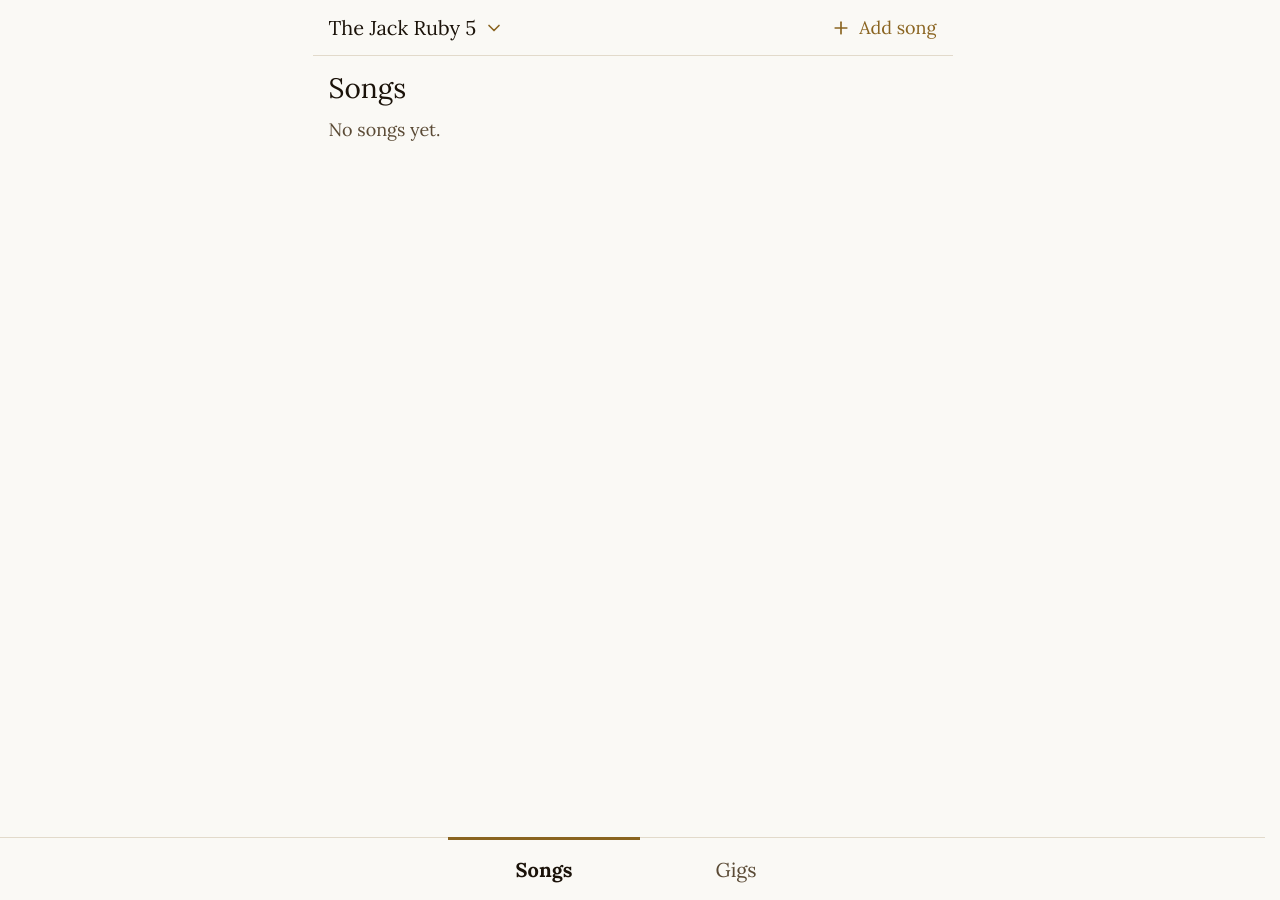
AppBootstrap › signed in: / → Gigs → a gig
Click the link "Gigs".
click(736, 870)  # box [715, 857, 757, 882]
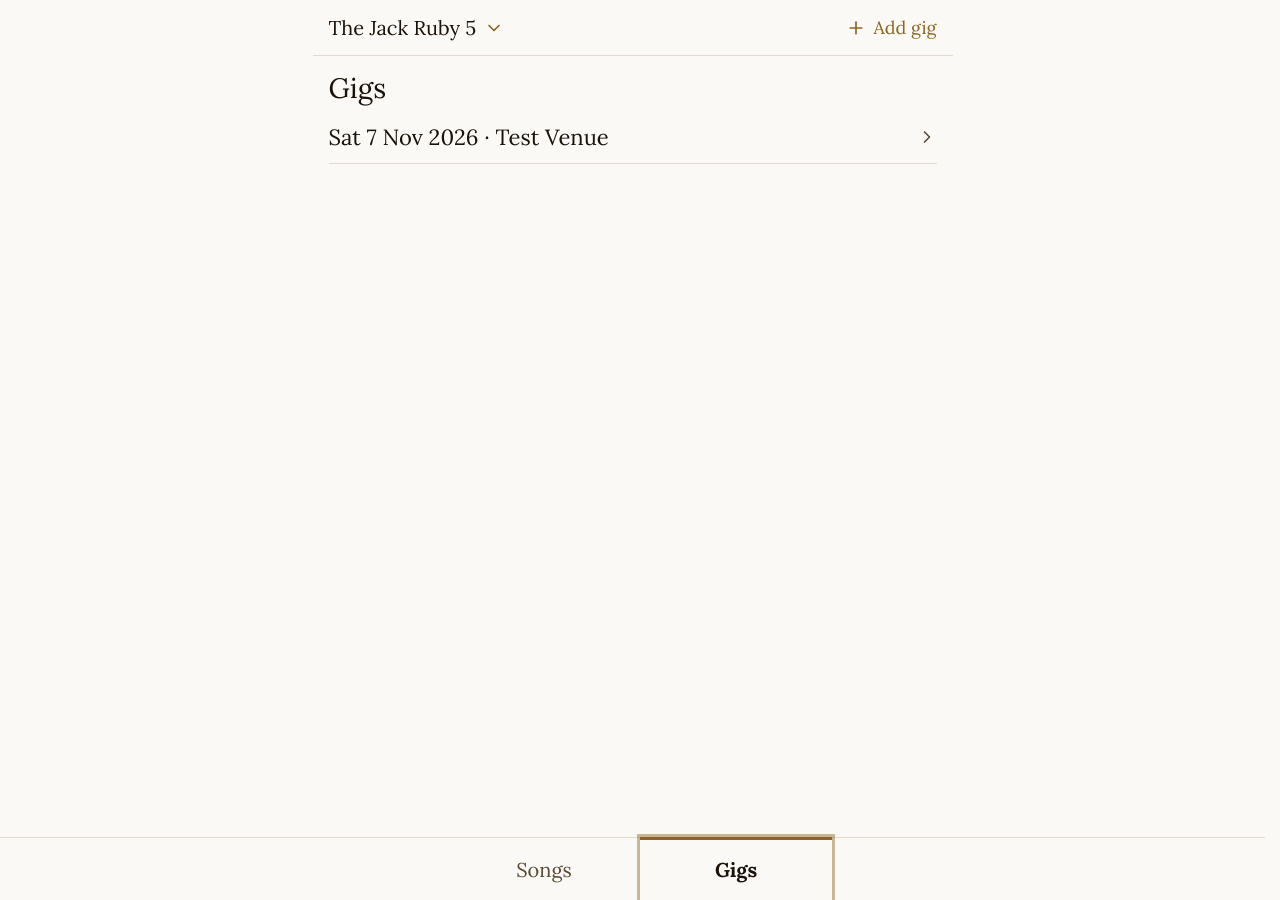
Click the link "Sat 7 Nov 2026 · Test Venue".
click(469, 137)  # box [328, 123, 936, 151]
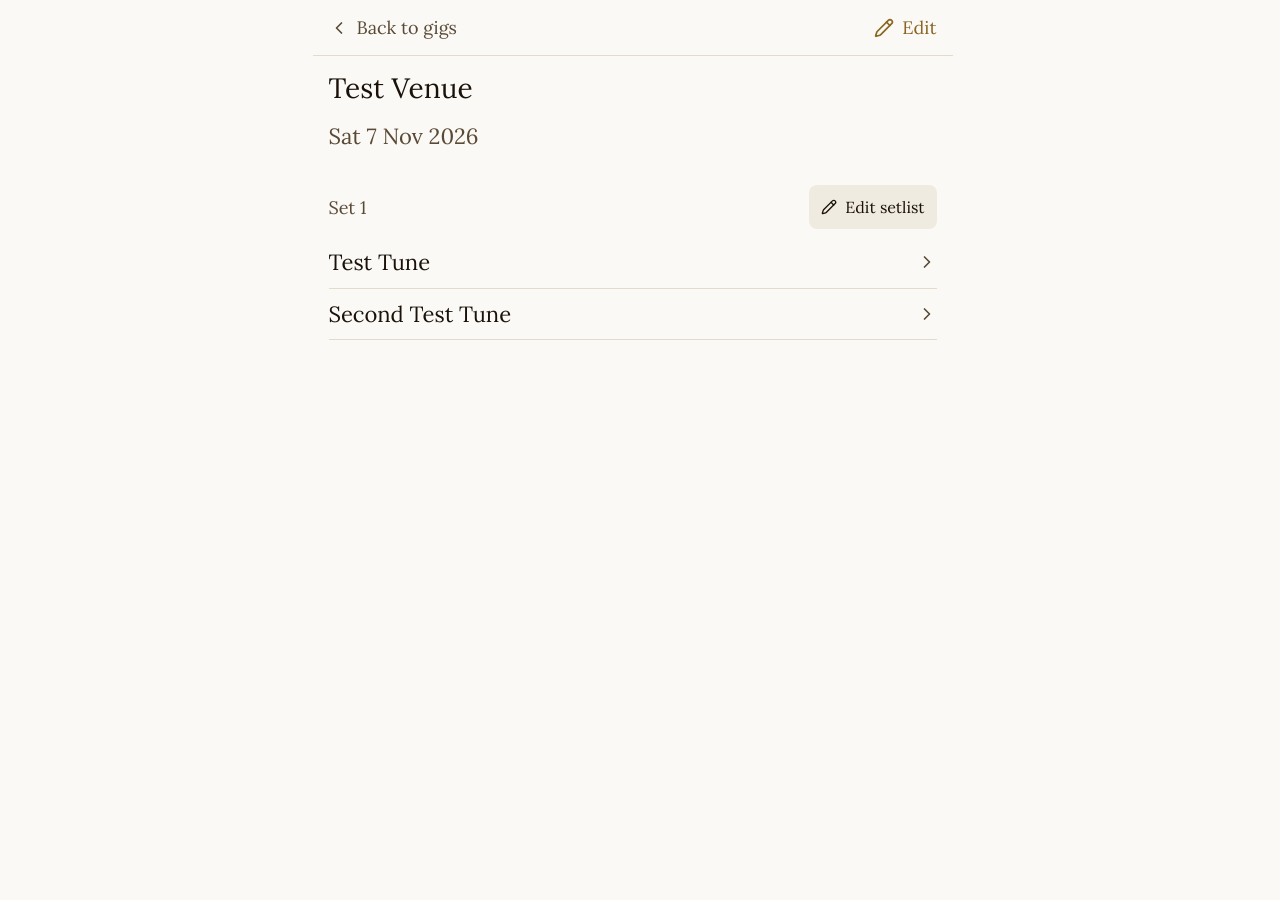
Check: the link "Back to gigs" is shown, box [328, 16, 457, 39]
Check: the heading "Test Venue" is shown, box [328, 70, 473, 106]
Click the link "Test Tune".
click(379, 262)  # box [328, 248, 936, 276]
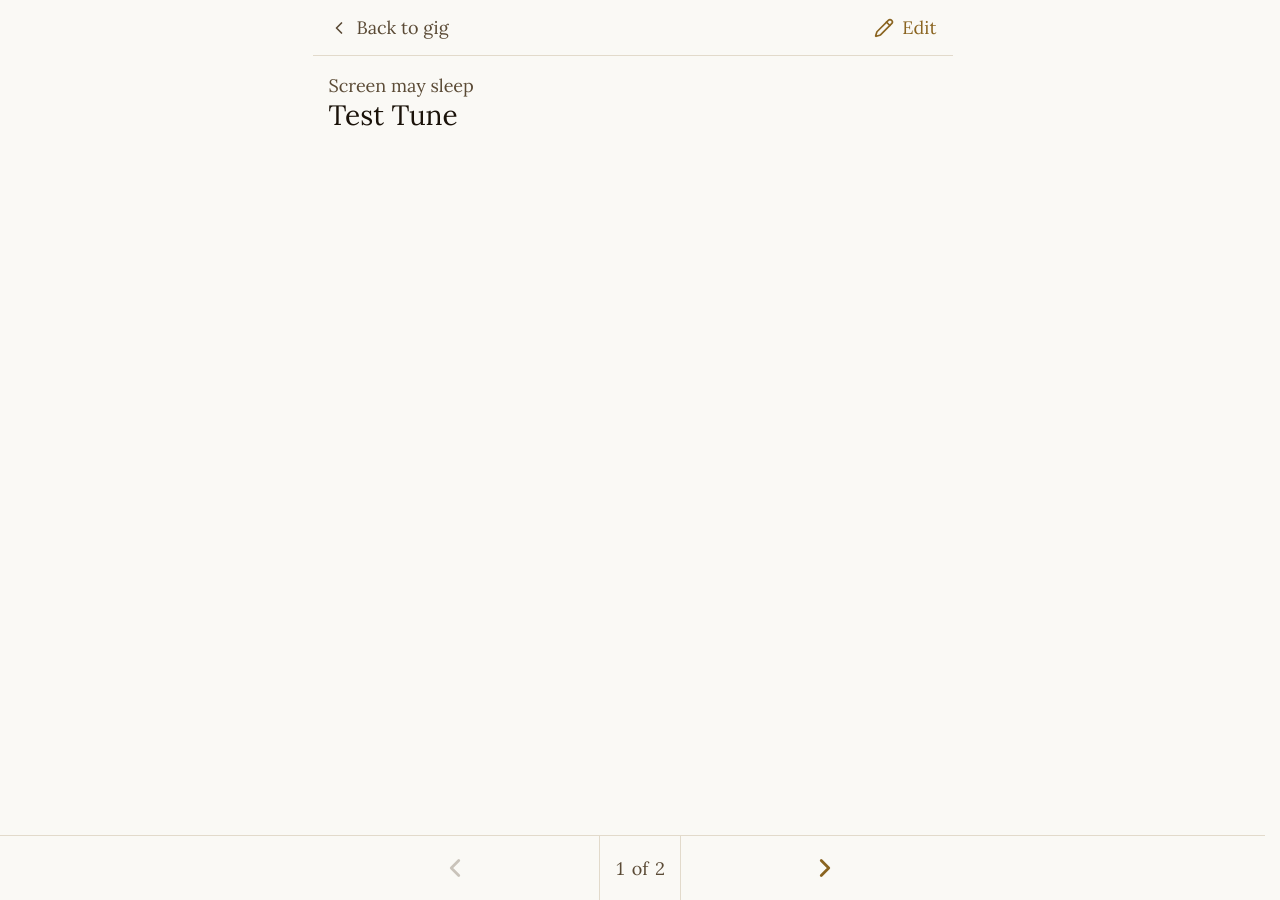
Check: the heading "Test Tune" is shown, box [328, 97, 458, 133]
Click the link named "Next song".
click(825, 868)  # box [810, 853, 840, 883]
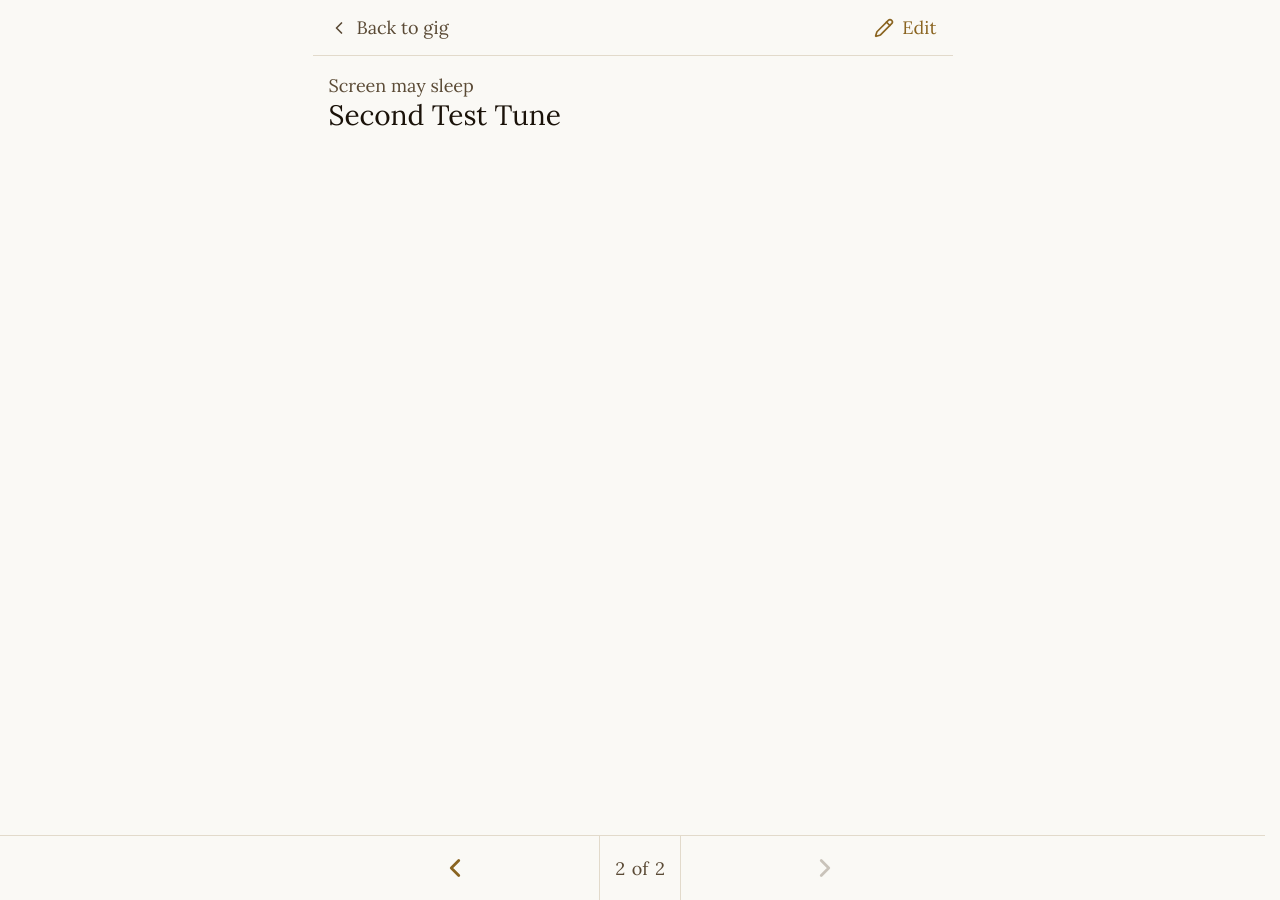
Check: the heading "Second Test Tune" is shown, box [328, 97, 561, 133]
Click the link "Back to gig".
click(389, 28)  # box [328, 16, 449, 39]
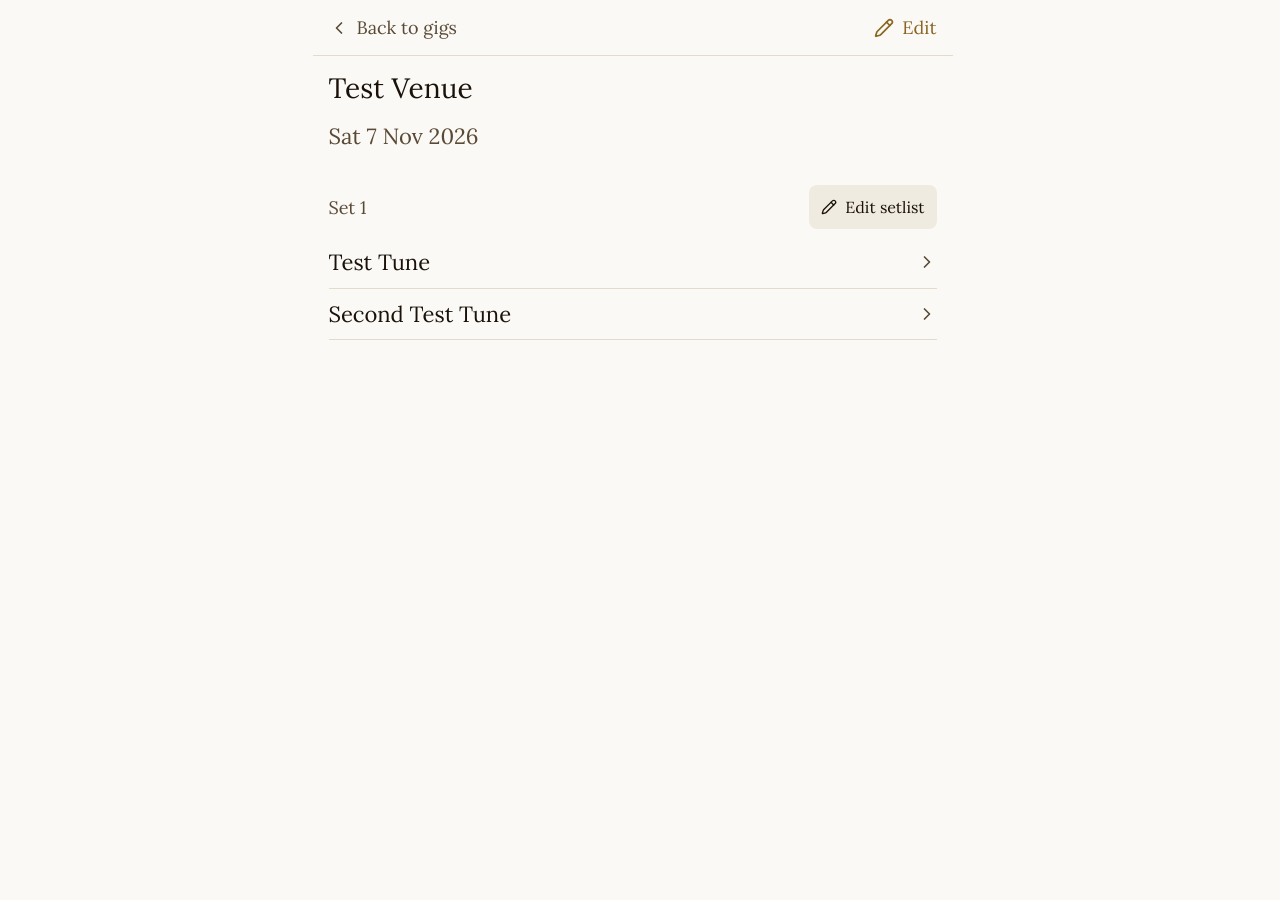
Check: the heading "Test Venue" is shown, box [328, 70, 473, 106]
